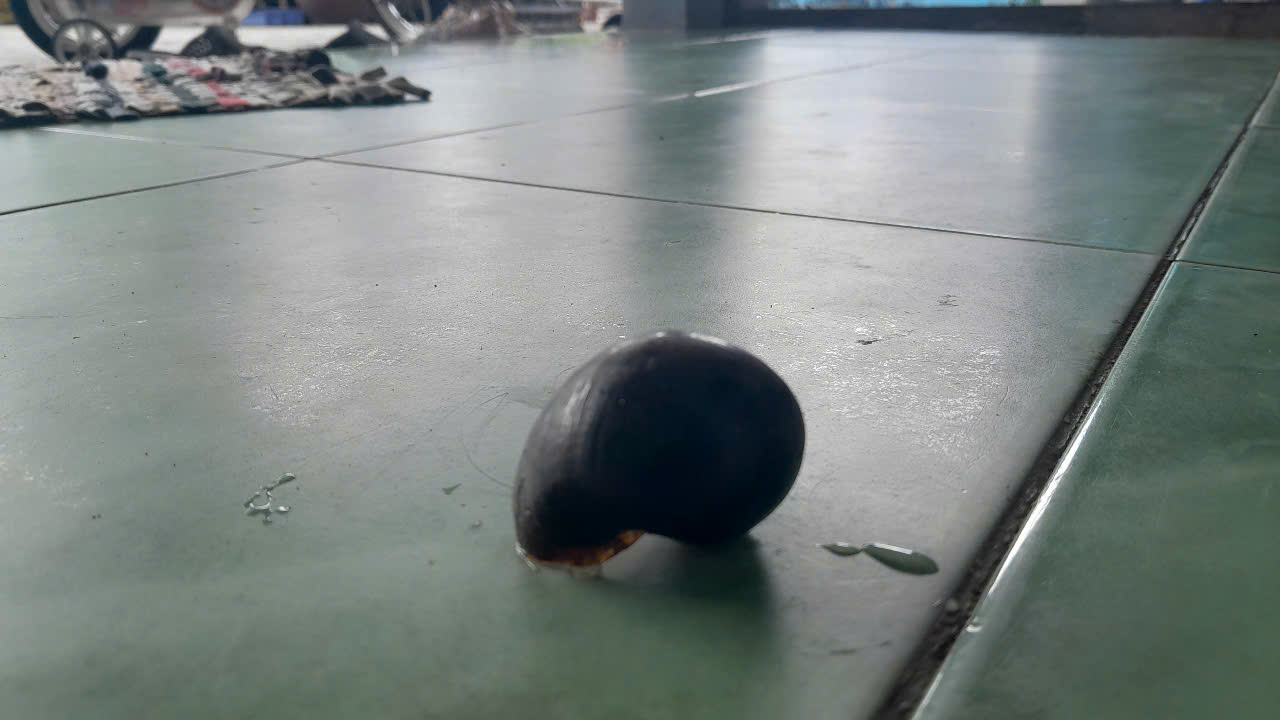oc_buou_vang: (491, 302, 829, 575)
